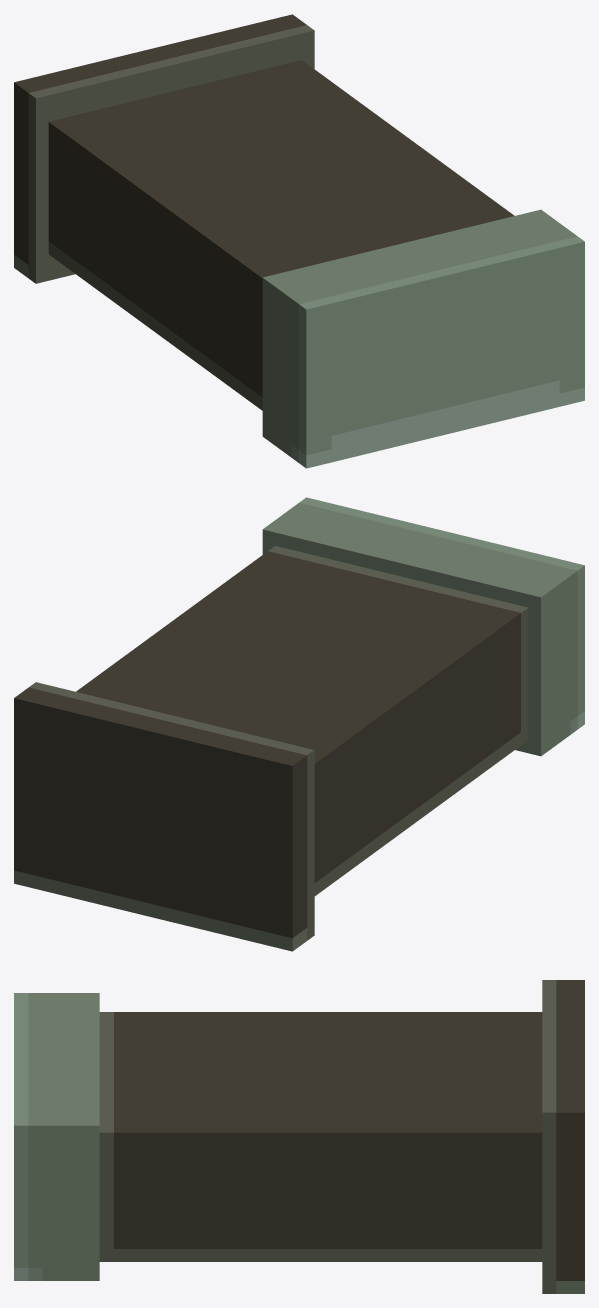
Rendered from stone_stele_1.obj.
3 renders of one model, top to bottom at view 1: azimuth 30°, elevation 25°; view 2: azimuth 150°, elevation 25°; view 3: azimuth 270°, elevation 25°, orthographic. The views are drawn at different scales.
Bounding box in the file's own units: 2.2 × 1.4 × 4.
1 material, 1 textured.
